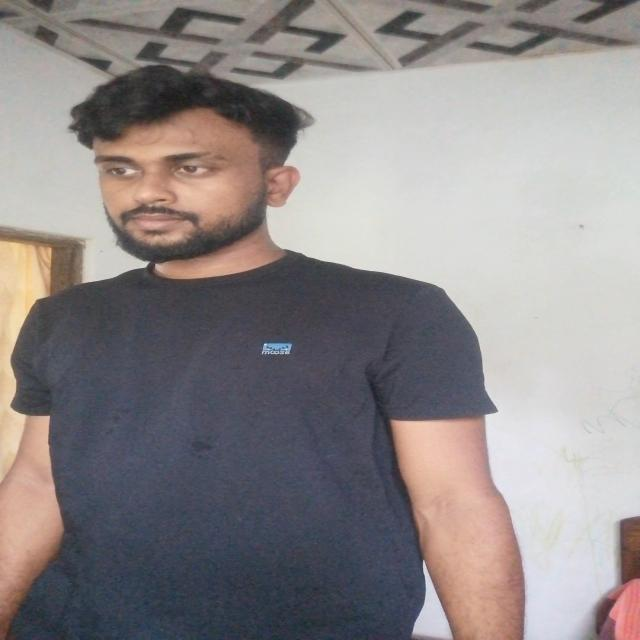Person: (2, 61, 567, 640)
